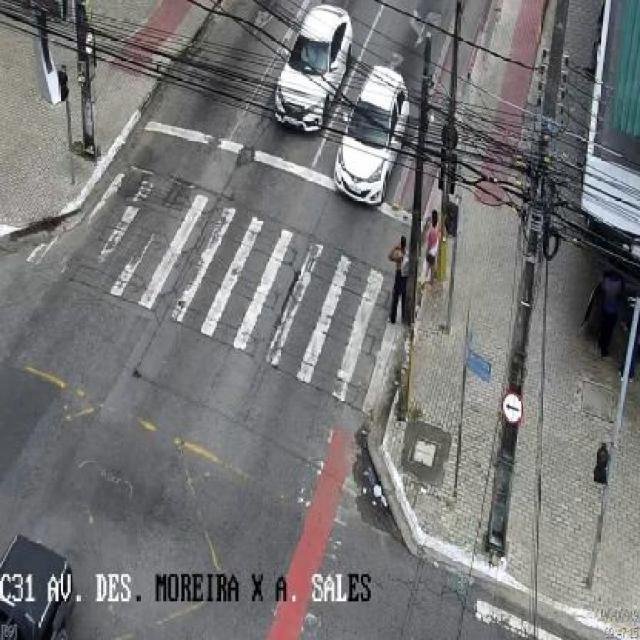Car: (271, 4, 358, 135), (332, 67, 412, 206)
Truck: (0, 529, 76, 640)
